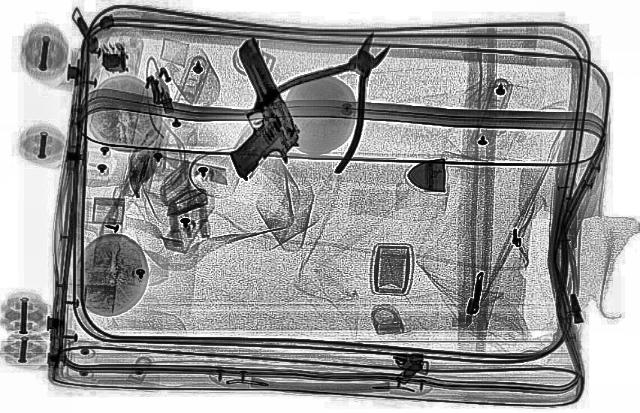Gun: (176, 36, 318, 180)
Pliers: (222, 18, 444, 174)
